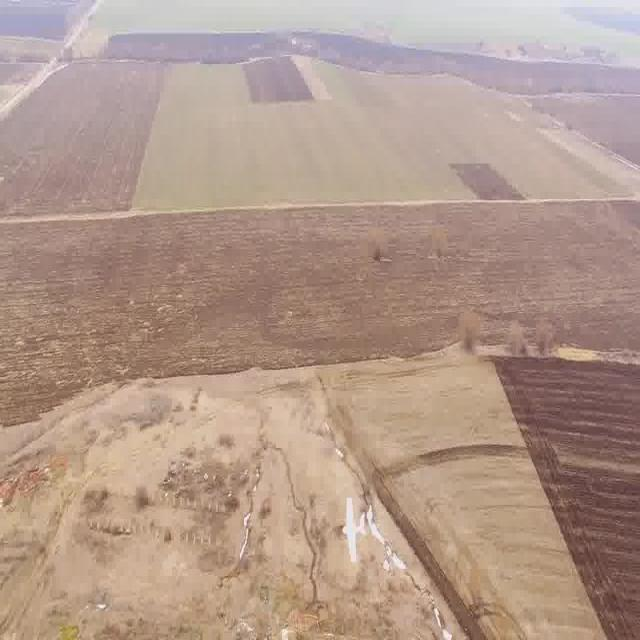iha: (326, 507, 384, 529)
